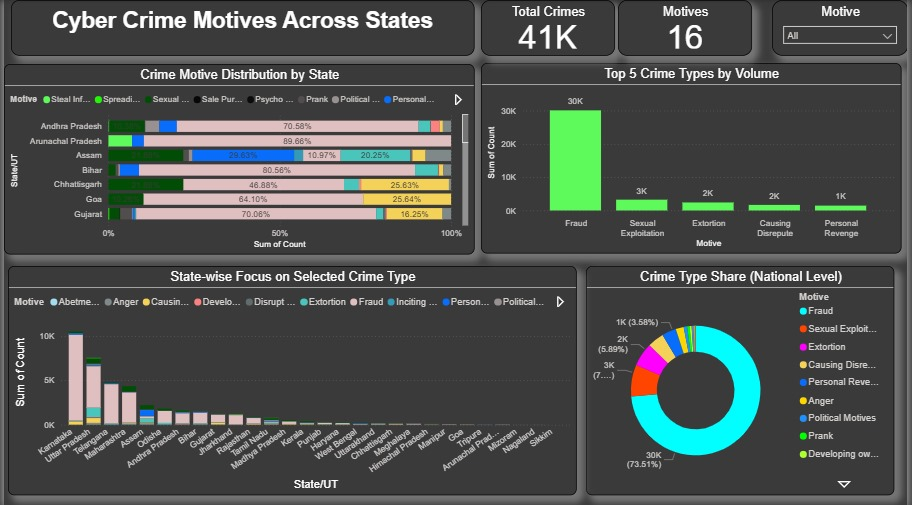

The dashboard page shown, as its layout file describes it:
{"tool":"powerbi","page":{"name":"Crime Type Analysis","canvas":[1280,720],"ordinal":1},"visuals":[{"type":"textbox","box":[10.4,0,656.7,79.1],"z":0},{"type":"hundredPercentStackedBarChart","title":"Crime Motive Distribution by State","fields":{"Category":["Types_of_Crime.State/UT"],"Y":["Sum(Types_of_Crime.Count)"],"Series":["Types_of_Crime.Motive"]},"box":[0,90,666.7,270],"z":1000},{"type":"donutChart","title":"Crime Type Share (National Level)","fields":{"Y":["Sum(Types_of_Crime.Count)"],"Category":["Types_of_Crime.Motive"]},"box":[825.4,377.6,437.3,325.4],"z":2000},{"type":"columnChart","title":"State-wise Focus on Selected Crime Type","fields":{"Category":["Types_of_Crime.State/UT"],"Y":["Sum(Types_of_Crime.Count)"],"Series":["Types_of_Crime.Motive"]},"box":[6,377.6,806,325.4],"z":3000},{"type":"slicer","title":"Motive","fields":{"Values":["Types_of_Crime.Motive"]},"box":[1088.1,0,192.5,79.1],"z":4000},{"type":"clusteredColumnChart","title":"Top 5 Crime Types by Volume","fields":{"Category":["Types_of_Crime.Motive"],"Y":["Sum(Types_of_Crime.Count)"]},"box":[676.1,89.6,595.5,270.1],"z":5000},{"type":"card","title":"Total Crimes","fields":{"Values":["Sum(Types_of_Crime.Count)"]},"box":[676.1,0,189.6,79.1],"z":6000},{"type":"card","title":"Motives","fields":{"Values":["Count(Types_of_Crime.Motive)"]},"box":[870.1,0,189.6,79.1],"z":7000}]}

Visuals, with their boxes in screenshot pixels (x1, y1, x2, y2), scaled from the page's 1280x720 canvas onto the 912x505 screenshot:
textbox: bbox(7, 0, 475, 55)
"Crime Motive Distribution by State" hundredPercentStackedBarChart: bbox(0, 63, 475, 252)
"Crime Type Share (National Level)" donutChart: bbox(588, 265, 900, 493)
"State-wise Focus on Selected Crime Type" columnChart: bbox(4, 265, 579, 493)
"Motive" slicer: bbox(775, 0, 911, 55)
"Top 5 Crime Types by Volume" clusteredColumnChart: bbox(482, 63, 906, 252)
"Total Crimes" card: bbox(482, 0, 617, 55)
"Motives" card: bbox(620, 0, 755, 55)
